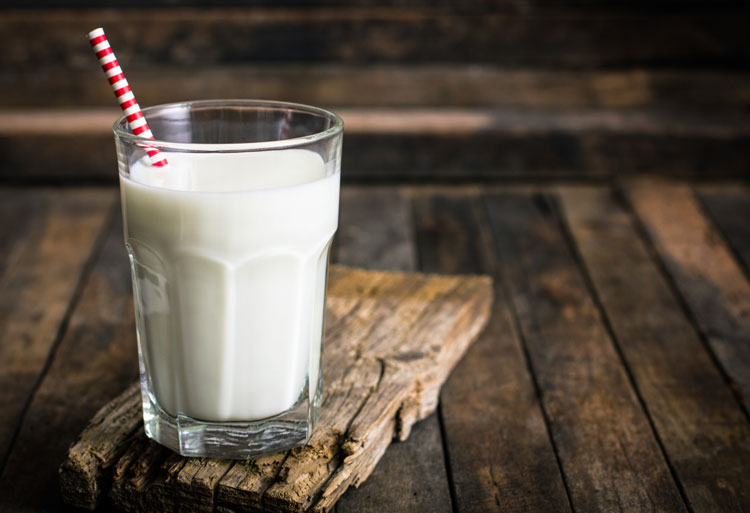glass of milk: (127, 145, 310, 422)
